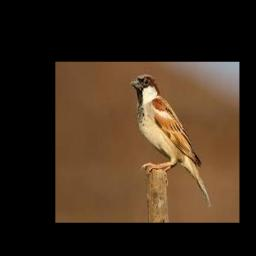Sparrow: (130, 74, 212, 208)
